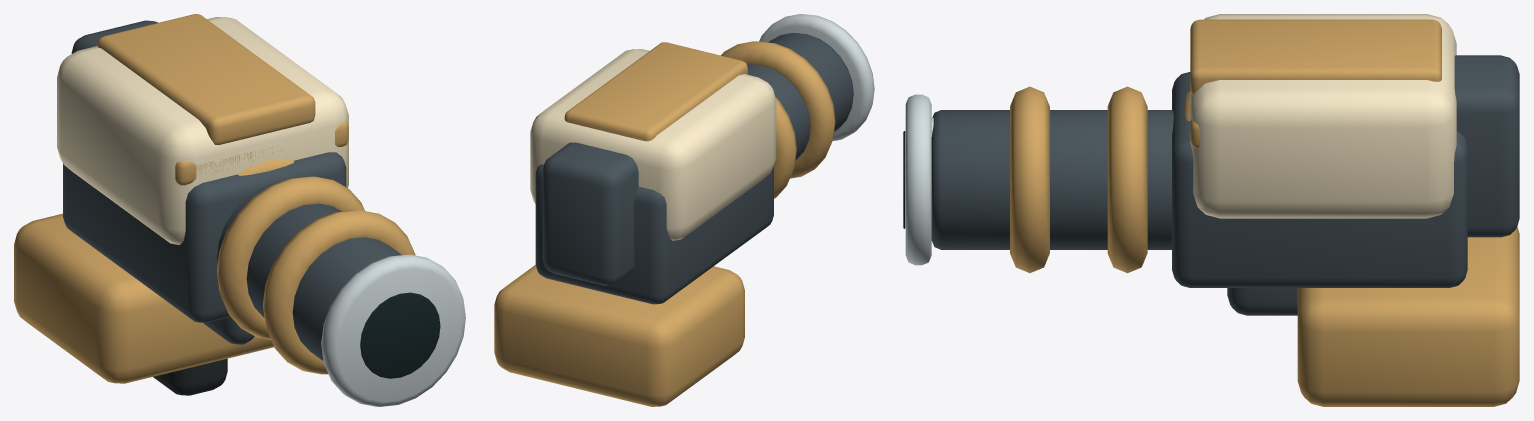
Rendered from shoulder_cannon.t2.glb.
3 views of the same model, side by side, from view 1: azimuth 30°, elevation 25°; view 2: azimuth 150°, elevation 25°; view 3: azimuth 270°, elevation 25° (orthographic). The views are drawn at different scales.
Parts seen in each view (by area): view 1: weapon_shoulder__worn_warm_brass__protected, weapon_shoulder__clay_warm_ivory__protected, weapon_shoulder__forged_bluelead_steel__protected, weapon_right__worn_warm_brass__protected, weapon_shoulder__honed_steel_edge__protected, weapon_shoulder__eye_socket__protected, weapon_right__charcoal_rubber__protected, weapon_right__forged_bluelead_steel__protected; view 2: weapon_shoulder__worn_warm_brass__protected, weapon_shoulder__clay_warm_ivory__protected, weapon_shoulder__forged_bluelead_steel__protected, weapon_right__forged_bluelead_steel__protected, weapon_right__worn_warm_brass__protected, weapon_shoulder__honed_steel_edge__protected; view 3: weapon_shoulder__forged_bluelead_steel__protected, weapon_shoulder__worn_warm_brass__protected, weapon_shoulder__clay_warm_ivory__protected, weapon_right__worn_warm_brass__protected, weapon_right__forged_bluelead_steel__protected, weapon_shoulder__honed_steel_edge__protected.
Part boxes in pixels (x1,y1,x2,y2): weapon_shoulder__worn_warm_brass__protected: (14, 121, 415, 383); weapon_shoulder__clay_warm_ivory__protected: (57, 17, 348, 244); weapon_shoulder__forged_bluelead_steel__protected: (63, 152, 401, 360); weapon_right__worn_warm_brass__protected: (97, 14, 315, 144); weapon_shoulder__honed_steel_edge__protected: (321, 254, 465, 406); weapon_shoulder__eye_socket__protected: (360, 292, 440, 378); weapon_right__charcoal_rubber__protected: (153, 358, 227, 395); weapon_right__forged_bluelead_steel__protected: (71, 20, 254, 344); weapon_shoulder__worn_warm_brass__protected: (494, 41, 835, 406); weapon_shoulder__clay_warm_ivory__protected: (530, 49, 776, 240); weapon_shoulder__forged_bluelead_steel__protected: (535, 33, 853, 304); weapon_right__forged_bluelead_steel__protected: (543, 142, 638, 285); weapon_right__worn_warm_brass__protected: (564, 42, 747, 141); weapon_shoulder__honed_steel_edge__protected: (759, 14, 874, 141); weapon_shoulder__forged_bluelead_steel__protected: (931, 72, 1467, 315); weapon_shoulder__worn_warm_brass__protected: (1010, 86, 1519, 406); weapon_shoulder__clay_warm_ivory__protected: (1190, 14, 1456, 218); weapon_right__worn_warm_brass__protected: (1190, 19, 1441, 95); weapon_right__forged_bluelead_steel__protected: (1227, 55, 1519, 315); weapon_shoulder__honed_steel_edge__protected: (905, 94, 931, 265).
Size of the model in its own units: 0.315 by 0.4747 by 0.7497.
